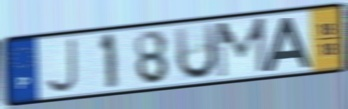1: (96, 31, 121, 92)
8: (133, 28, 171, 85)
A: (263, 15, 314, 74)
J: (43, 37, 79, 95)
M: (215, 15, 269, 81)
U: (173, 21, 220, 82)
